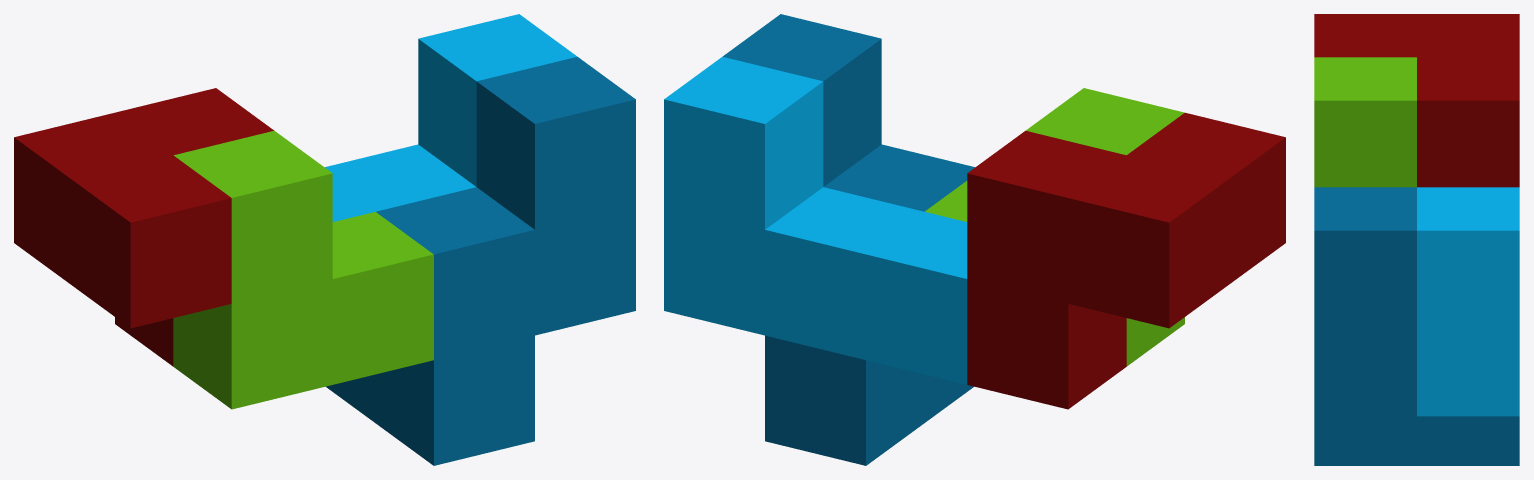
The picture shows the model from 3 angles, left to right: view 1: azimuth 30°, elevation 25°; view 2: azimuth 150°, elevation 25°; view 3: azimuth 270°, elevation 25°; orthographic projection. The views are drawn at different scales.
Parts seen in each view (by area): view 1: mergedBlocks(Clone); view 2: mergedBlocks(Clone); view 3: mergedBlocks(Clone).
Boxes of the visible parts, <box> form: mergedBlocks(Clone): <box>14,14,635,465</box>; mergedBlocks(Clone): <box>664,14,1285,465</box>; mergedBlocks(Clone): <box>1314,14,1519,465</box>.
Size of the model in its own units: 5 by 3 by 2.
4 materials, 4 textured.
